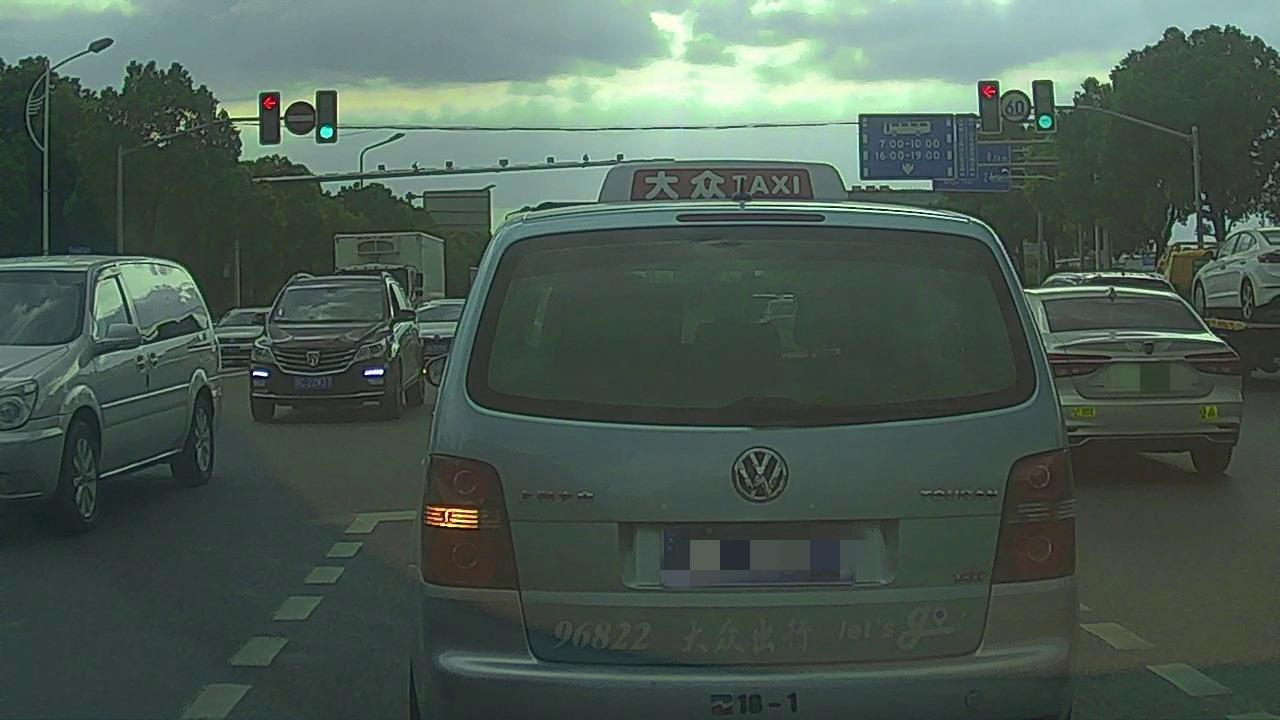traffic_light: (1032, 79, 1057, 130), (259, 94, 282, 144), (979, 76, 999, 133), (317, 90, 336, 145)
